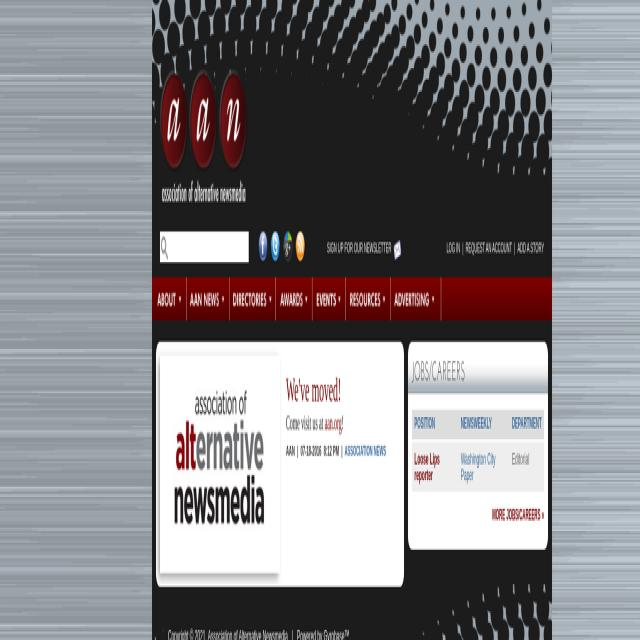button: (159, 68, 248, 218), (390, 276, 441, 321), (230, 276, 276, 321), (346, 276, 390, 321), (187, 276, 230, 321), (276, 276, 312, 321), (152, 276, 187, 321), (312, 276, 346, 321), (258, 232, 268, 262), (283, 232, 293, 262), (295, 232, 305, 262), (271, 232, 280, 262)
field: (160, 232, 249, 262)
